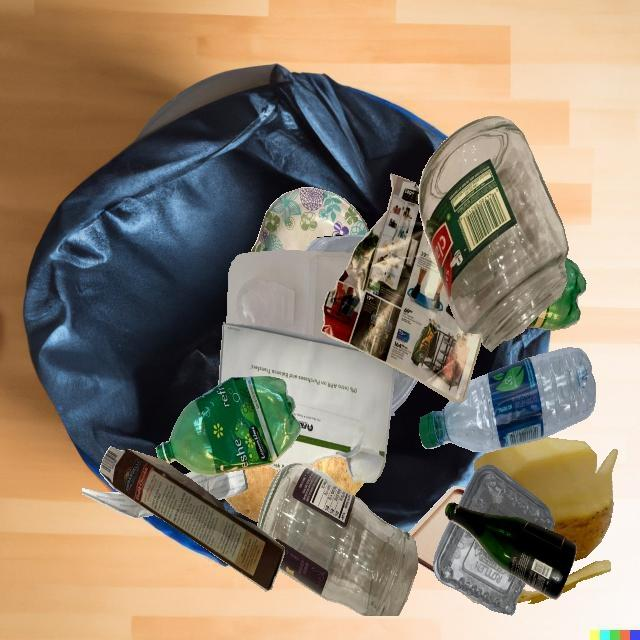biowaste: (474, 437, 596, 511), (554, 449, 618, 561), (225, 465, 281, 522), (310, 456, 365, 496)
cardboard: (99, 446, 285, 591), (250, 188, 369, 253)
combustible waste: (408, 486, 466, 573)
glass: (419, 116, 569, 352), (257, 462, 418, 616), (445, 502, 577, 599)
paper: (321, 173, 482, 402), (218, 322, 395, 483), (82, 488, 155, 519), (184, 469, 248, 500)
plastic: (419, 347, 595, 452), (156, 376, 301, 476), (227, 250, 353, 345), (433, 520, 526, 615), (458, 464, 554, 531), (527, 257, 586, 330), (390, 368, 418, 416), (305, 235, 366, 253)
